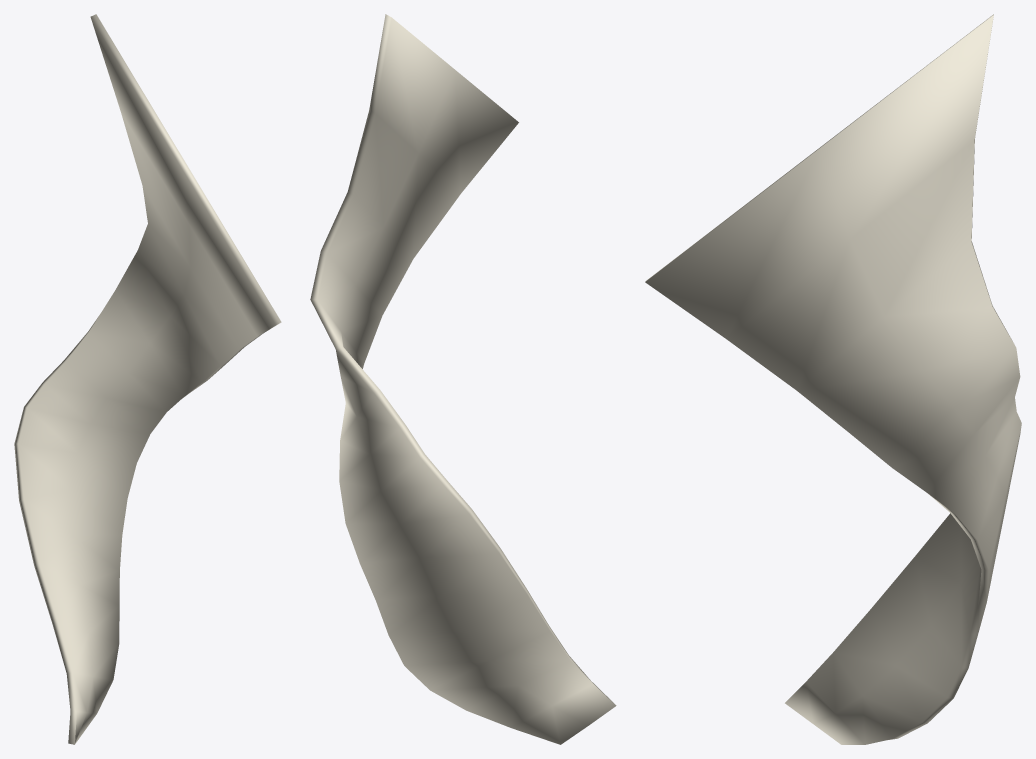
3 views of the same model, side by side, from view 1: azimuth 30°, elevation 25°; view 2: azimuth 150°, elevation 25°; view 3: azimuth 270°, elevation 25° (orthographic). The views are drawn at different scales.
Parts seen in each view (by area): view 1: ZA_d01d206b9ceb8044; view 2: ZA_d01d206b9ceb8044; view 3: ZA_d01d206b9ceb8044.
Boxes of the visible parts, x1=… form: ZA_d01d206b9ceb8044: x1=14, y1=14, x2=281, y2=744; ZA_d01d206b9ceb8044: x1=310, y1=14, x2=616, y2=744; ZA_d01d206b9ceb8044: x1=645, y1=14, x2=1021, y2=744.
Size of the model in its own units: 0.0157 by 0.0541 by 0.0237.
